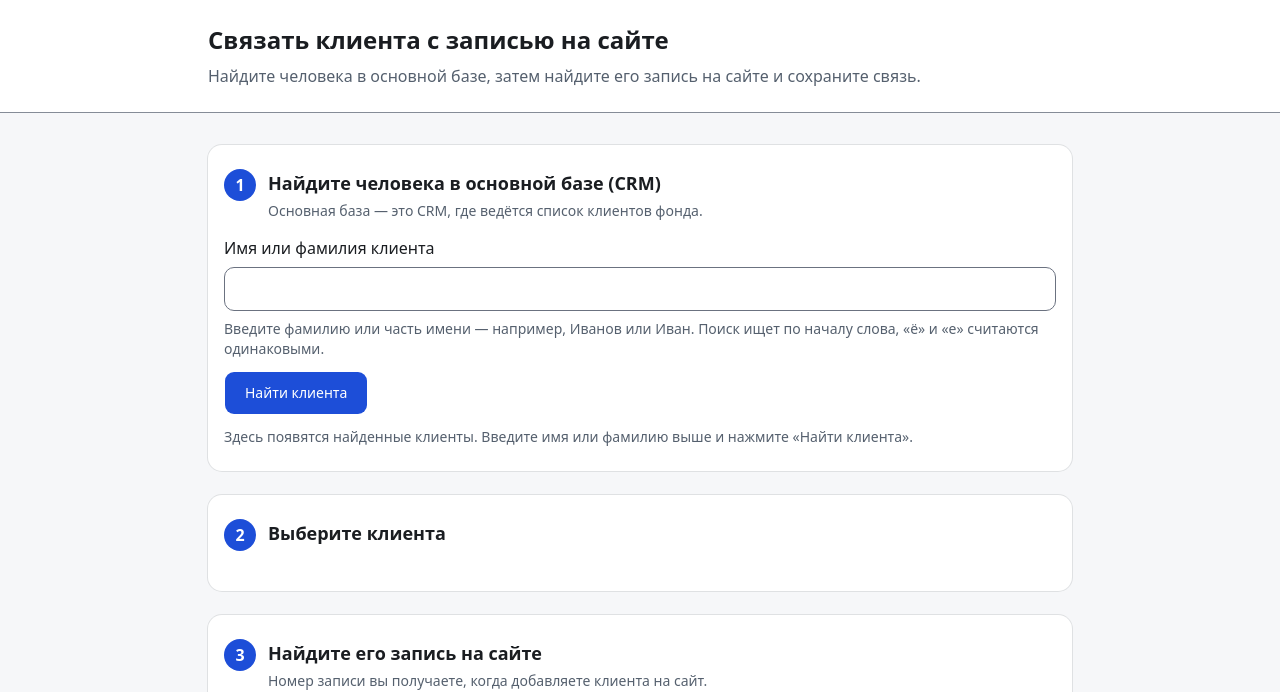
Test case: поиск клиента в основной базе › предупреждает, что показаны только первые 50 совпадений
Type "Иванов" into the field labelled "Имя или фамилия клиента". click: x=640, y=289
box: [224,267,1056,311]
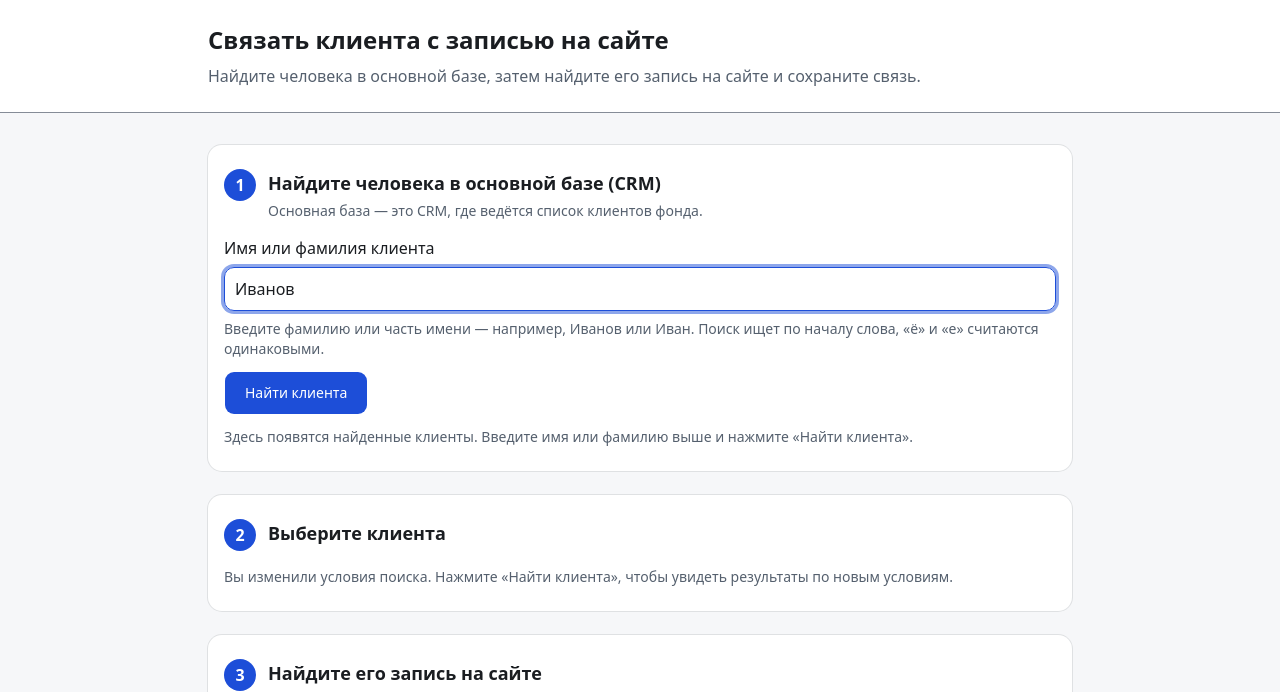
Click the button "Найти клиента". click: x=296, y=393
box: [224,371,368,415]
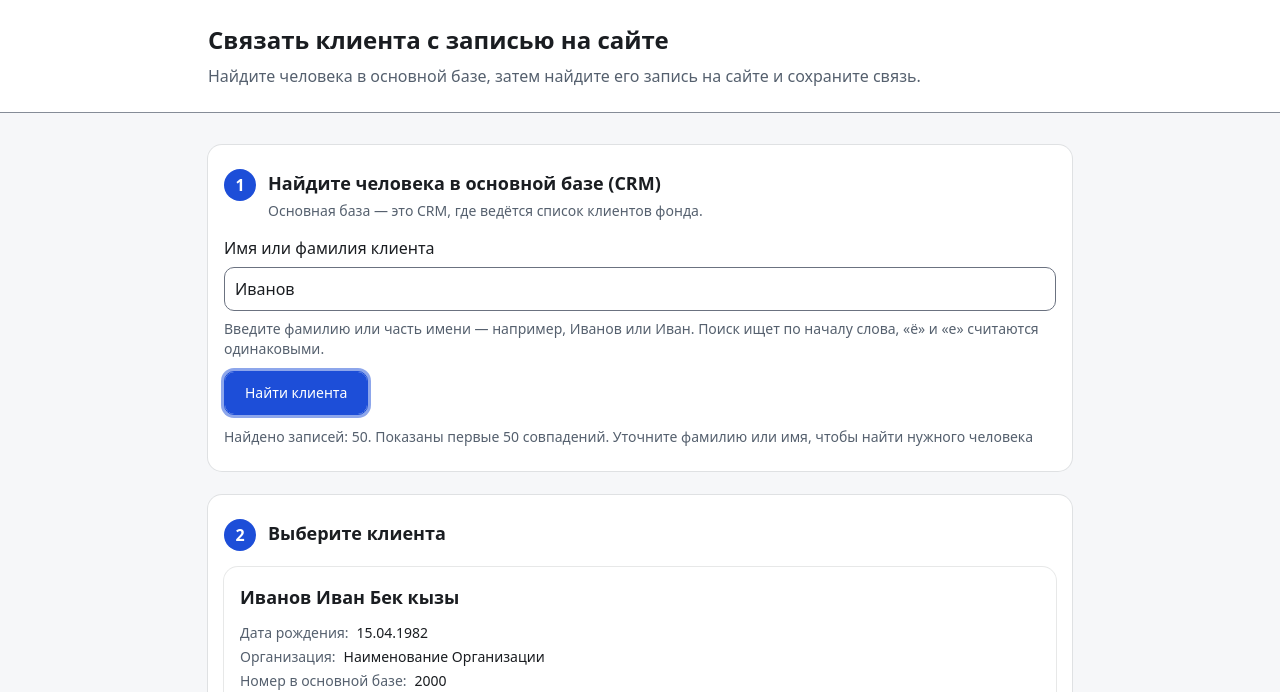
Expected: the text "Найдено записей: 50. Показаны первые 50 совпадений. Уточните фамилию или имя, чтобы найти нужного человека" is shown, [224,427,1033,446]
